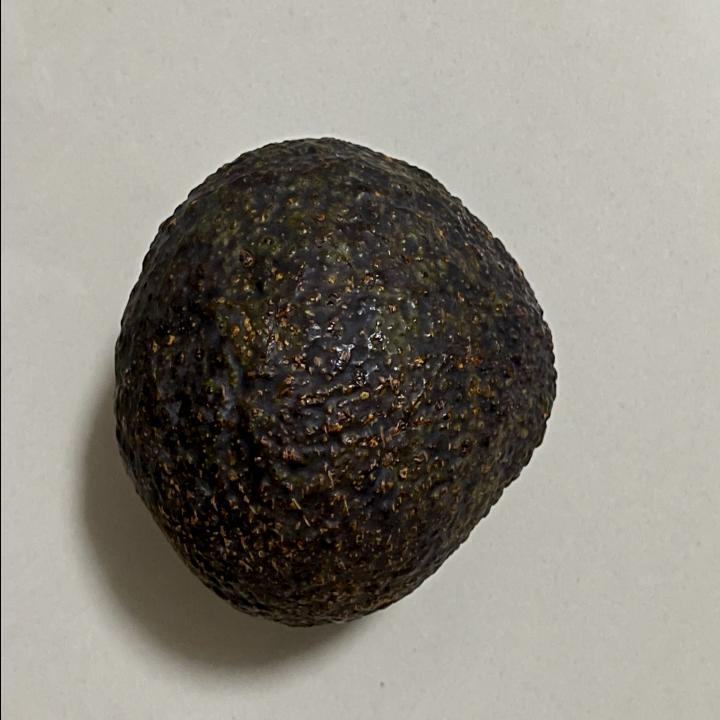Level2: (103, 126, 570, 636)
